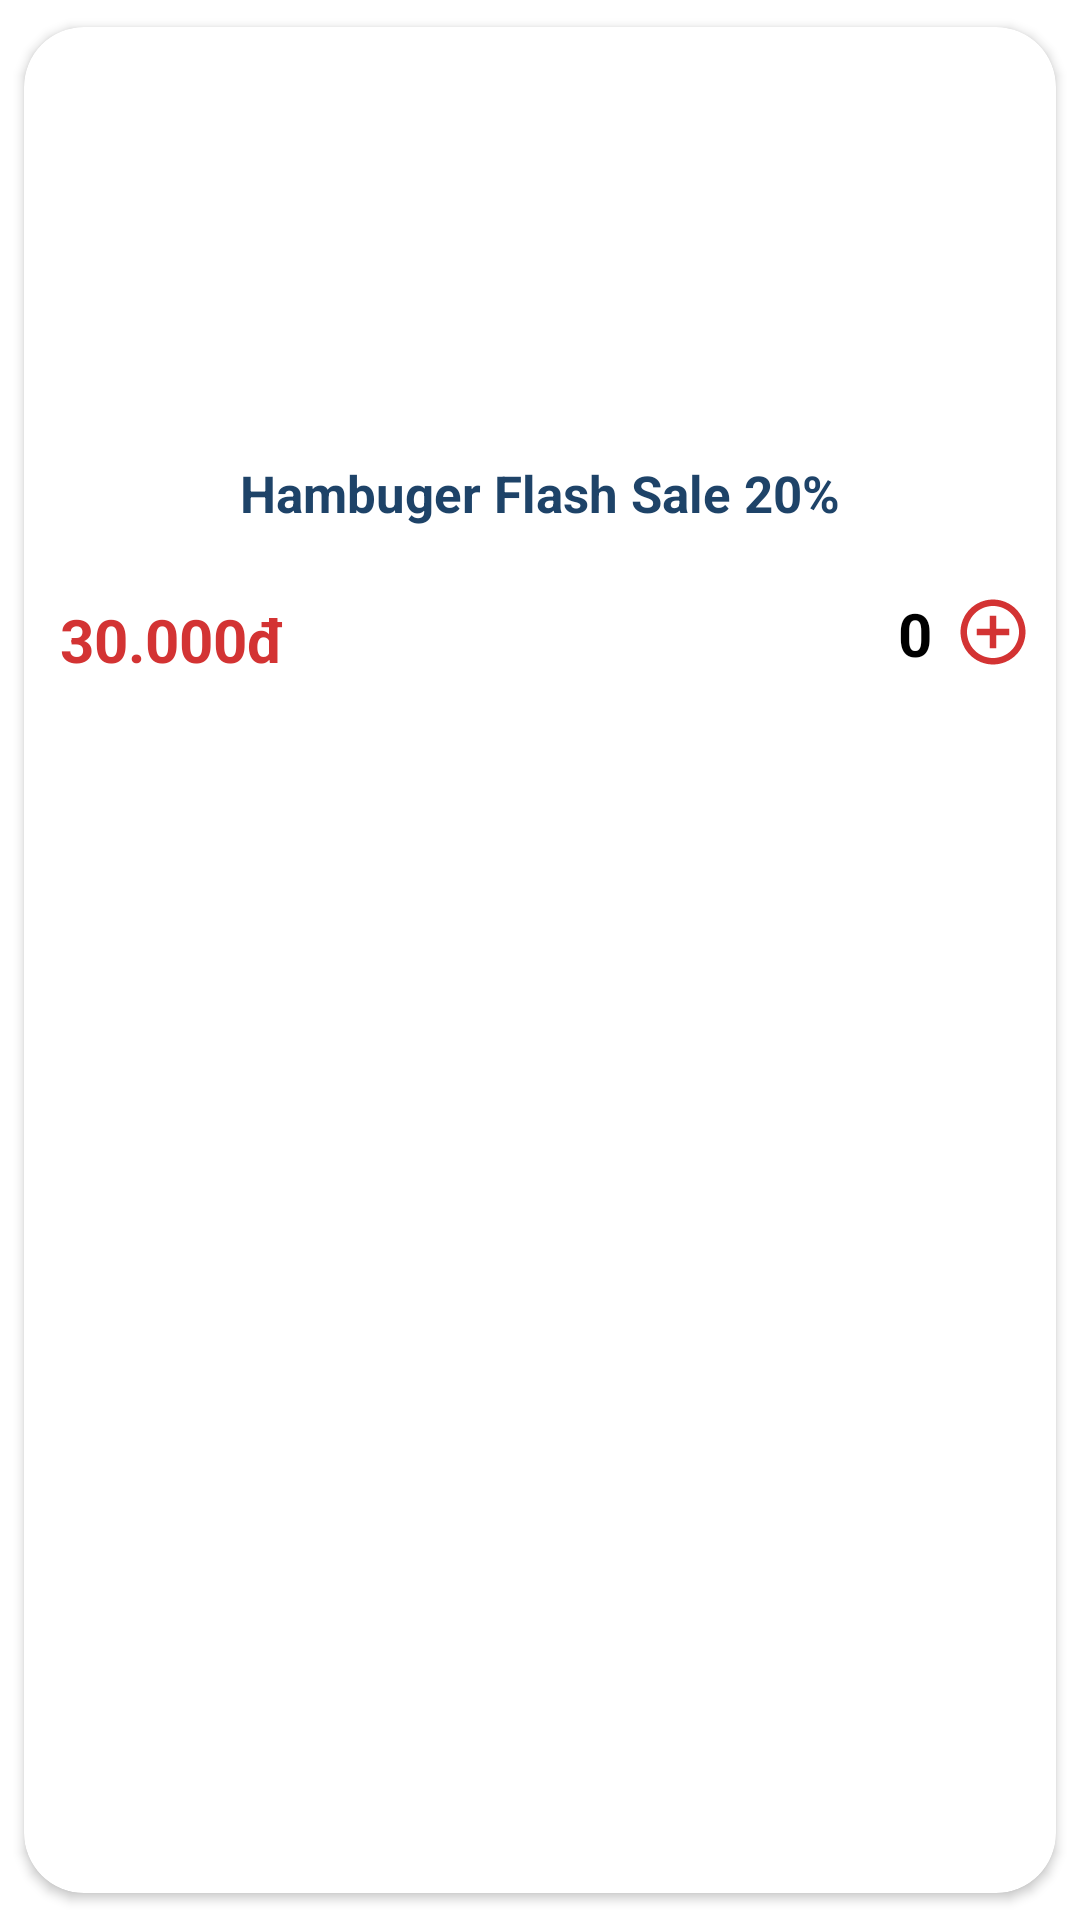

Locate icon controls on the screen. Image size 1080×1920, boxes as (x1, y1, x2, y2).
add circle: (960, 599, 1026, 665)
